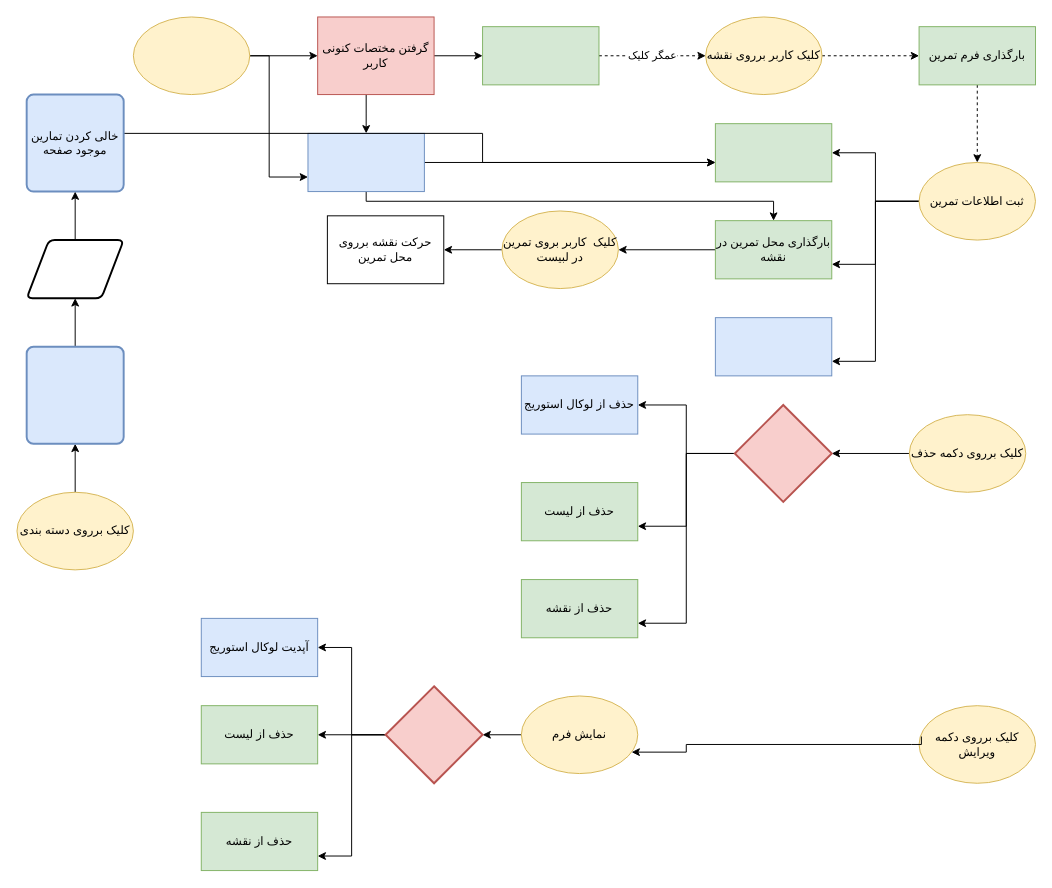
This 1052x888 diagram has some shape labels left out. The shapes that lost their labels are listed below. From the top down, each one's centre as x and y in pixels, then its label:
At (x=191, y=55): "بارگذاری صفحه".
At (x=540, y=55): "بارگذاری نقشه برروی محل کنونی کاربر".
At (x=365, y=162): "بارگذاری اطلاعات ذخیره شده".
At (x=773, y=152): "بارگذاری اطلاعات در لیست".
At (x=74, y=269): "ایجاد آرایه جدید".
At (x=773, y=346): "ذخیره اطلاعات در لوکال استوریج".
At (x=74, y=394): "گرفتن نوع دسته بندی".
At (x=782, y=453): "تایید حذف".
At (x=433, y=734): "تایید ویرایش".
